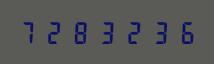eight: (67, 20, 91, 44)
seven: (17, 20, 41, 44)
six: (167, 20, 191, 44)
three: (92, 20, 116, 44), (142, 20, 166, 44)
two: (42, 20, 66, 44), (117, 20, 141, 44)
